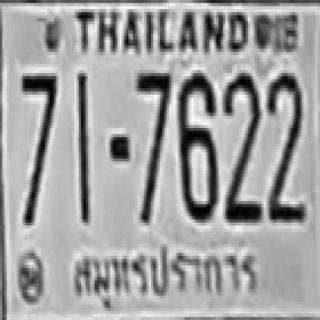N02: (222, 70, 265, 226), (267, 70, 309, 227)
N06: (177, 72, 217, 221)
N07: (20, 72, 58, 228), (135, 70, 172, 223)
P57: (68, 246, 265, 311)
